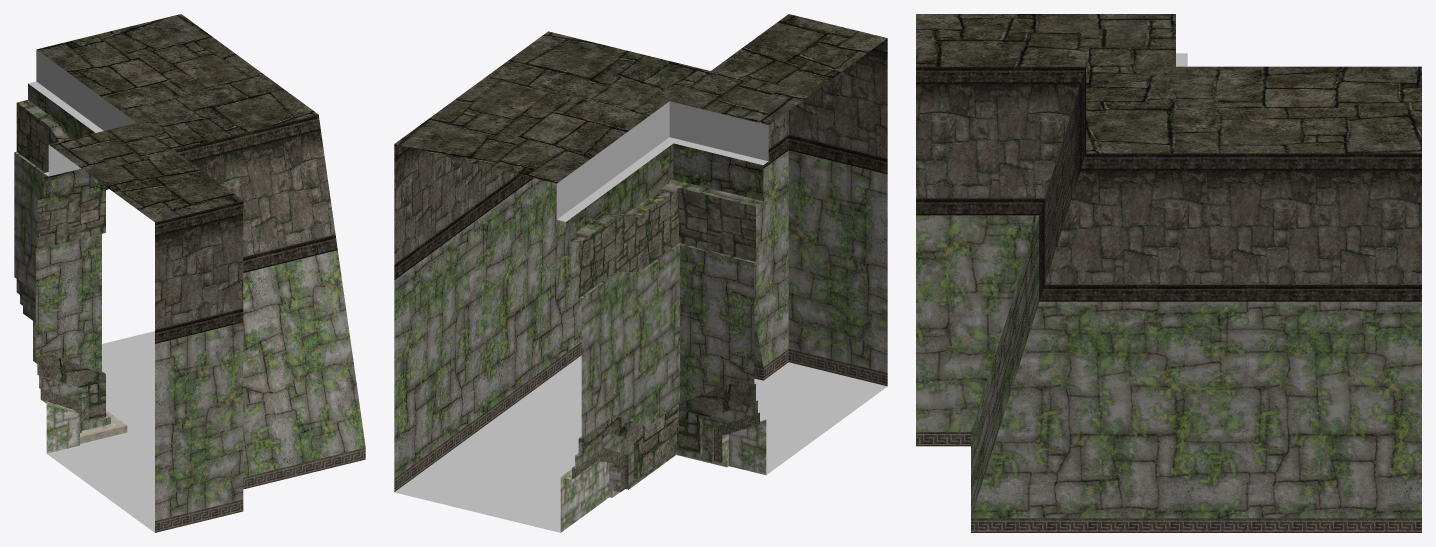
Rendered from thm_yavn_palace_woolamander_r6_altar_hallway3_mesh.fbx.
3 renders of one model, left to right at view 1: azimuth 30°, elevation 25°; view 2: azimuth 150°, elevation 25°; view 3: azimuth 270°, elevation 25°, orthographic. The views are drawn at different scales.
Parts seen in each view (by area): view 1: mesh_node; view 2: mesh_node; view 3: mesh_node.
Boxes of the visible parts, box(x1,y1,x2,y2) form: mesh_node: box(14, 14, 365, 532); mesh_node: box(394, 14, 887, 532); mesh_node: box(916, 14, 1421, 532).
Size of the model in its own units: 8.04 by 10.22 by 12.34.
